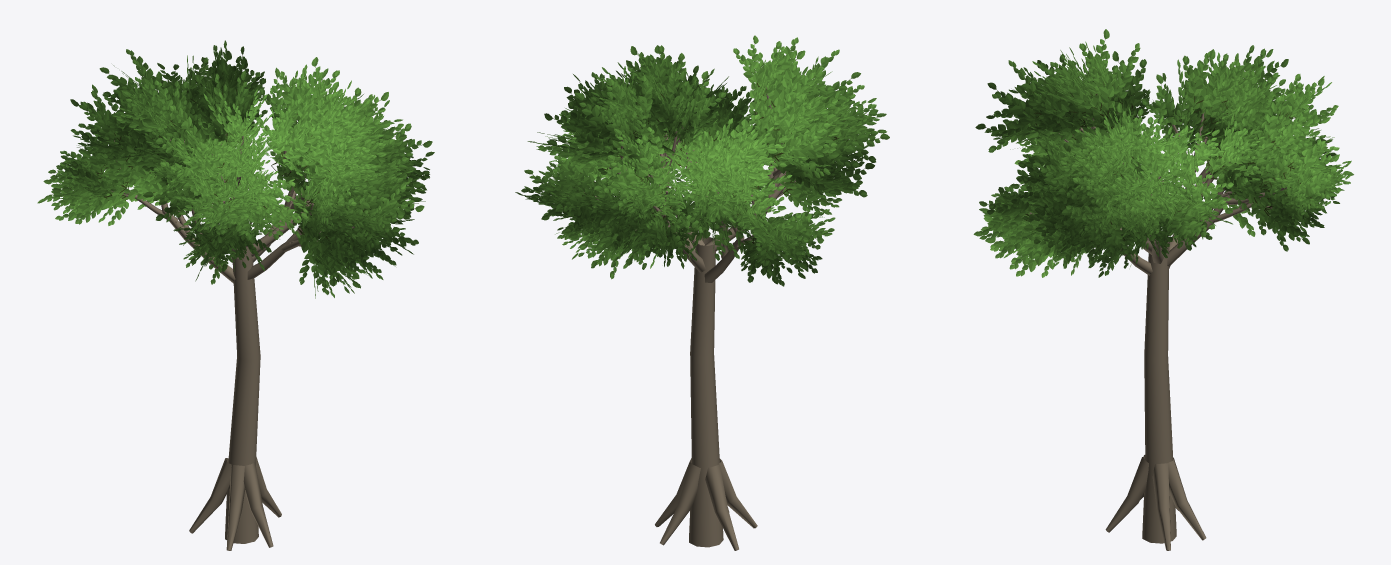
Rendered from jungle_tree_1.glb.
3 views of the same model, side by side, from view 1: azimuth 30°, elevation 25°; view 2: azimuth 150°, elevation 25°; view 3: azimuth 270°, elevation 25° (orthographic). The views are drawn at different scales.
Visible parts, largest first — view 1: jungle_tree_1; view 2: jungle_tree_1; view 3: jungle_tree_1.
Boxes of the visible parts, x1,y1,x2,y2 form: jungle_tree_1: (37,40,434,550); jungle_tree_1: (515,35,889,550); jungle_tree_1: (973,29,1353,550).
Size of the model in its own units: 13.03 by 17.03 by 13.18.
2 materials, 1 textured.
